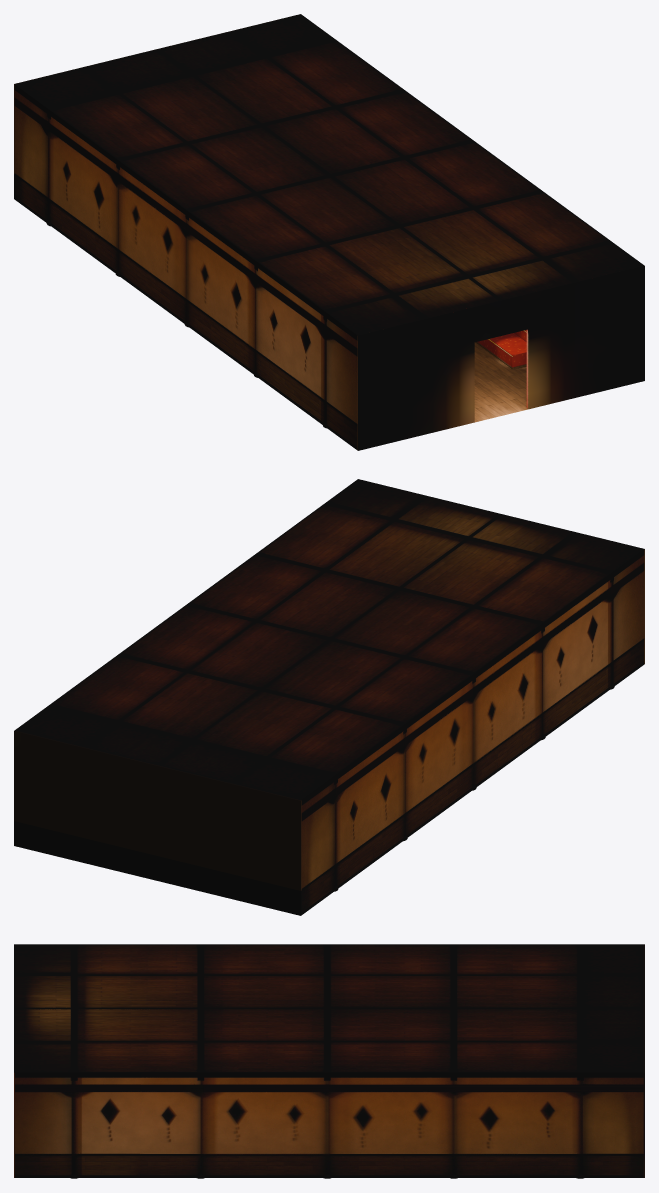
Rendered from paper-hall.glb.
The picture shows the model from 3 angles, top to bottom: view 1: azimuth 30°, elevation 25°; view 2: azimuth 150°, elevation 25°; view 3: azimuth 270°, elevation 25°; orthographic projection. The views are drawn at different scales.
Parts seen in each view (by area): view 1: hall_ceiling, hall_wall_left, hall_ends, hall_floor_a, hall_displays; view 2: hall_ceiling, hall_wall_left, hall_ends; view 3: hall_ceiling, hall_wall_right, hall_ends.
Part boxes in pixels (box(x1,y1,x2,y2)): hall_ceiling: box(15, 14, 643, 335); hall_wall_left: box(14, 85, 357, 450); hall_ends: box(14, 14, 644, 450); hall_floor_a: box(474, 342, 527, 422); hall_displays: box(475, 330, 526, 369); hall_ceiling: box(15, 479, 643, 800); hall_wall_left: box(301, 550, 644, 914); hall_ends: box(14, 479, 644, 915); hall_ceiling: box(15, 944, 643, 1072); hall_wall_right: box(15, 1072, 643, 1178); hall_ends: box(14, 944, 644, 1177).
Size of the model in its own units: 12.12 by 4.6 by 24.93.
10 materials, 8 textured.
